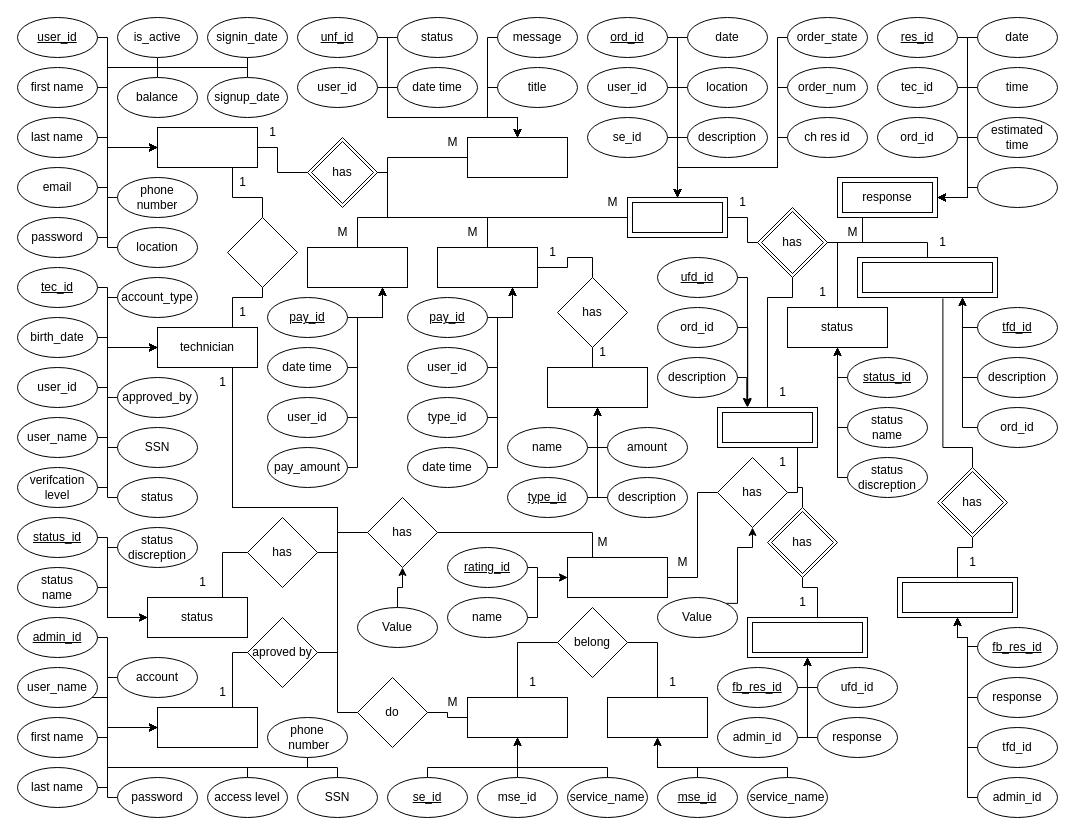
The diagram is 1075 pixels wide and 835 high, and some of its shapes have lost their labels. The shapes that lost their labels are listed below. From the top down, each one's centre as x and y in pixels, then its label:
At pixel 207 147: "user".
At pixel 517 157: "notification".
At pixel 1017 187: "estimated price".
At pixel 677 217: "order".
At pixel 262 252: "belong to".
At pixel 357 267: "incom payment".
At pixel 487 267: "user_payment".
At pixel 927 277: "technician _feedback".
At pixel 597 387: "payment_type".
At pixel 767 427: "user_feedback".
At pixel 617 577: "Rating_type".
At pixel 957 597: "tec_fb_response".
At pixel 807 637: "user feedback response".
At pixel 207 727: "admin".
At pixel 517 717: "service".
At pixel 657 717: "main service".
